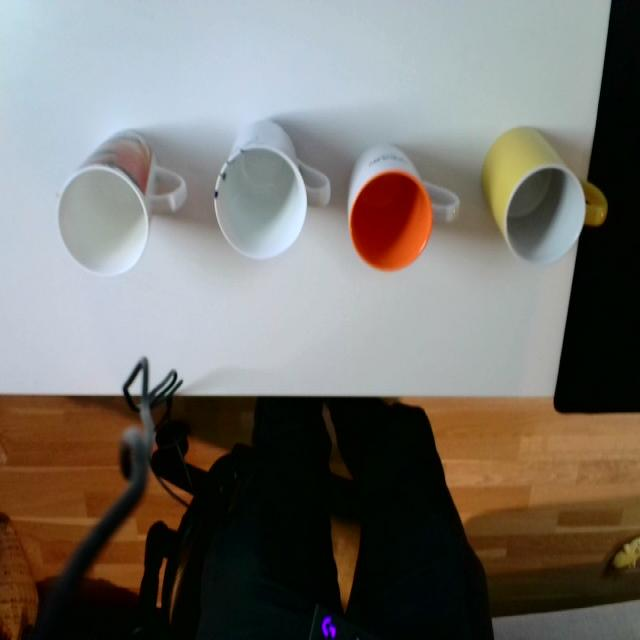Cocio Cup: (478, 124, 610, 265)
Halloween cup: (56, 128, 190, 276)
Hand painted cup: (213, 119, 333, 261)
White Cup: (346, 142, 464, 274)
